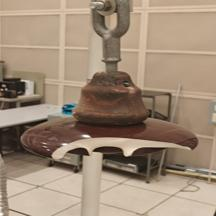insulator: (15, 63, 208, 166)
